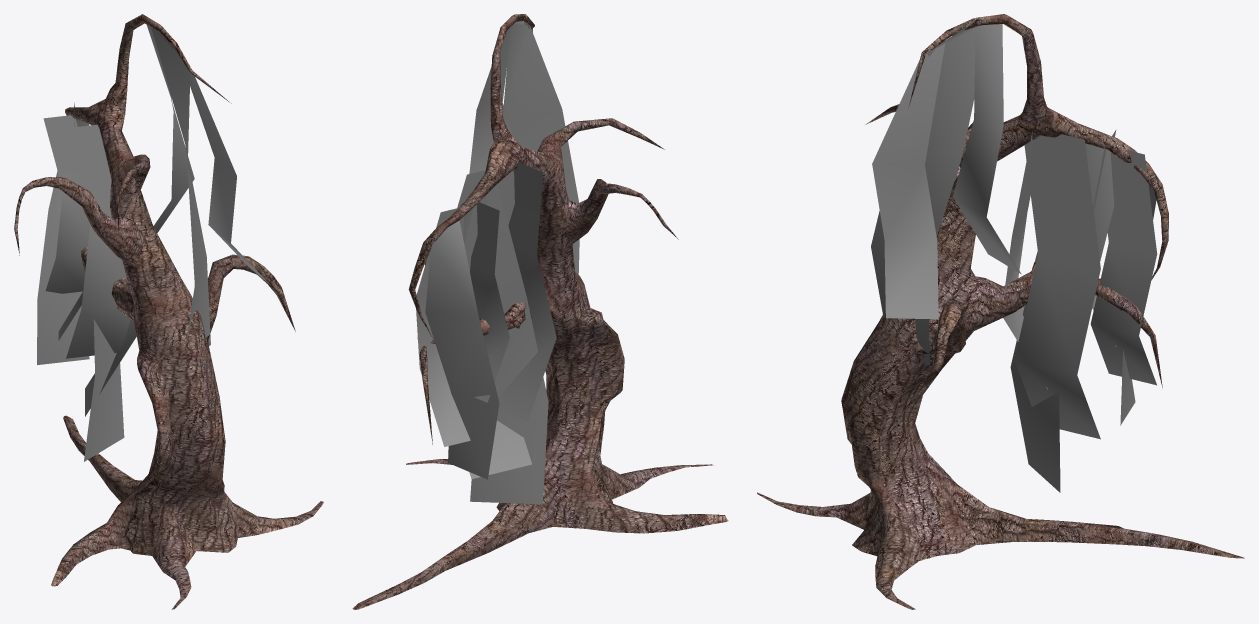
File: kurvigtree_lod0.fbx
3 renders of one model, left to right at view 1: azimuth 30°, elevation 25°; view 2: azimuth 150°, elevation 25°; view 3: azimuth 270°, elevation 25°, orthographic. The views are drawn at different scales.
Parts seen in each view (by area): view 1: Default_Layer; view 2: Default_Layer; view 3: Default_Layer.
Part boxes in pixels (x1,y1,x2,y2): Default_Layer: (14, 14, 323, 609); Default_Layer: (352, 14, 728, 609); Default_Layer: (757, 14, 1244, 609).
Bounding box in the file's own units: 791 × 1276 × 1071.
